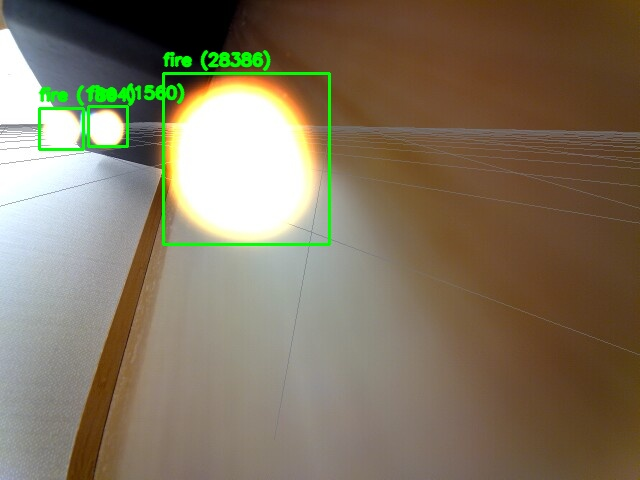fire: (163, 73, 329, 244), (39, 108, 83, 149), (88, 106, 127, 146)
